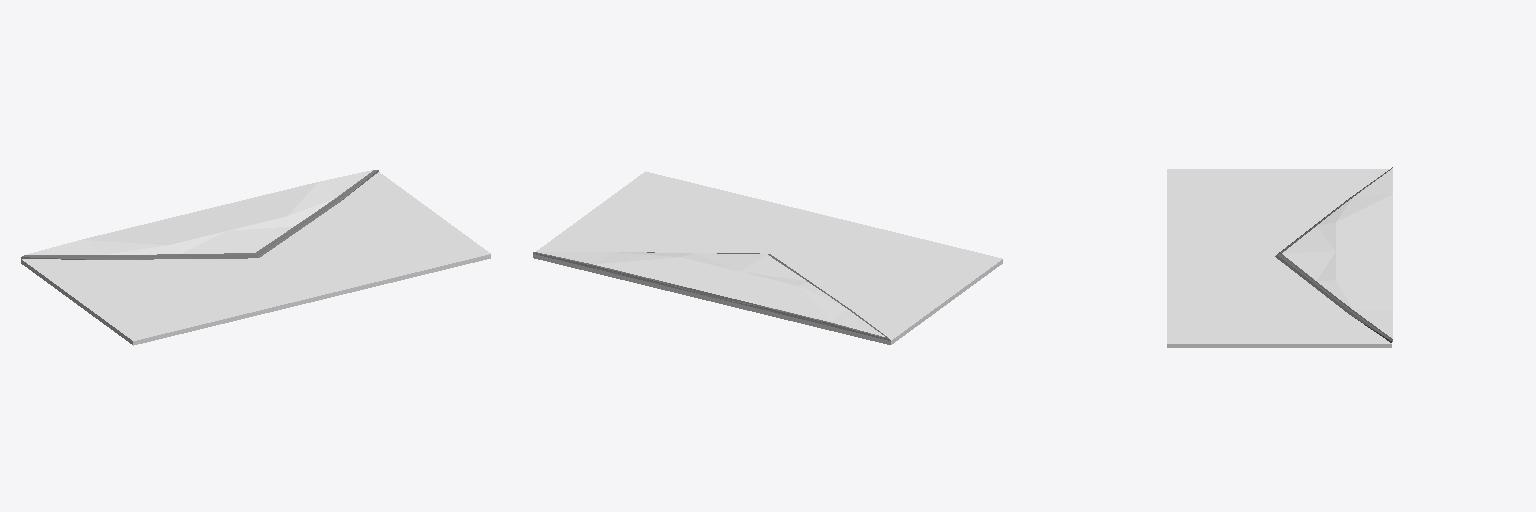
Rendered from texturedLetter.obj.
The picture shows the model from 3 angles: view 1: azimuth 30°, elevation 25°; view 2: azimuth 150°, elevation 25°; view 3: azimuth 270°, elevation 25°; orthographic projection.
Visible parts, largest first — view 1: pCube6; view 2: pCube6; view 3: pCube6.
Boxes of the visible parts, box(x1,y1,x2,y2) form: pCube6: box(21, 170, 490, 345); pCube6: box(533, 171, 1002, 344); pCube6: box(1167, 167, 1392, 347).
Bounding box in the file's own units: 49.47 × 1.26 × 27.